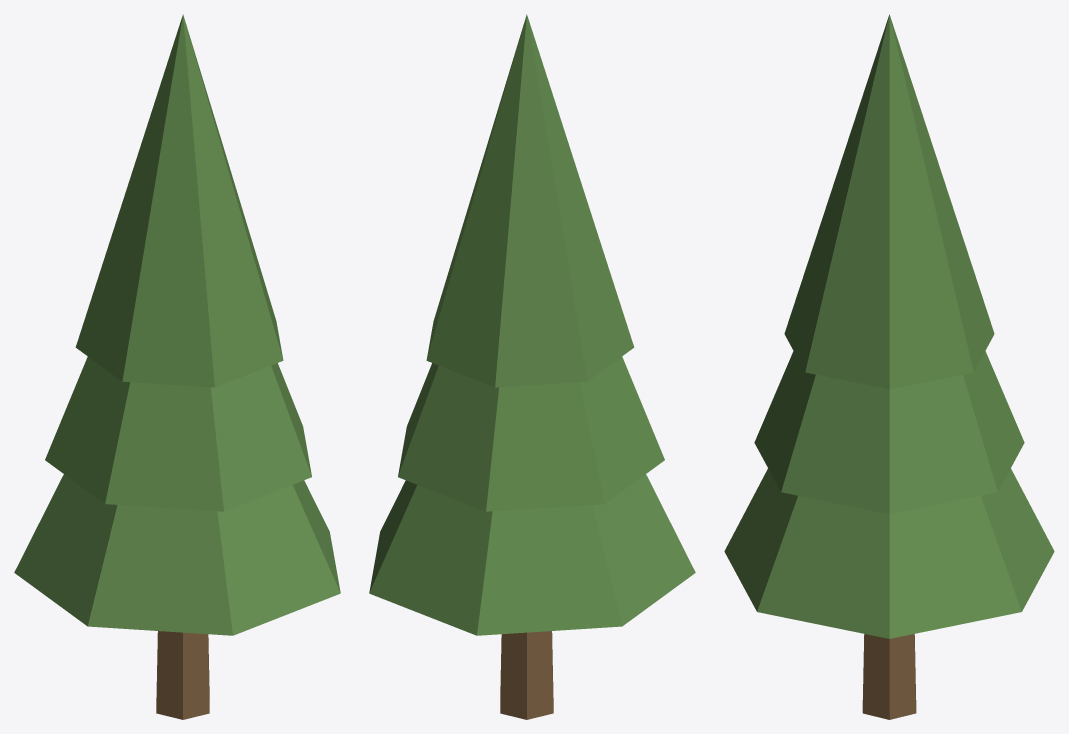
File: tree_conifer_03.glb
3 views of the same model, side by side, from view 1: azimuth 30°, elevation 25°; view 2: azimuth 150°, elevation 25°; view 3: azimuth 270°, elevation 25° (orthographic).
Size of the model in its own units: 2.09 by 4.97 by 2.14.
